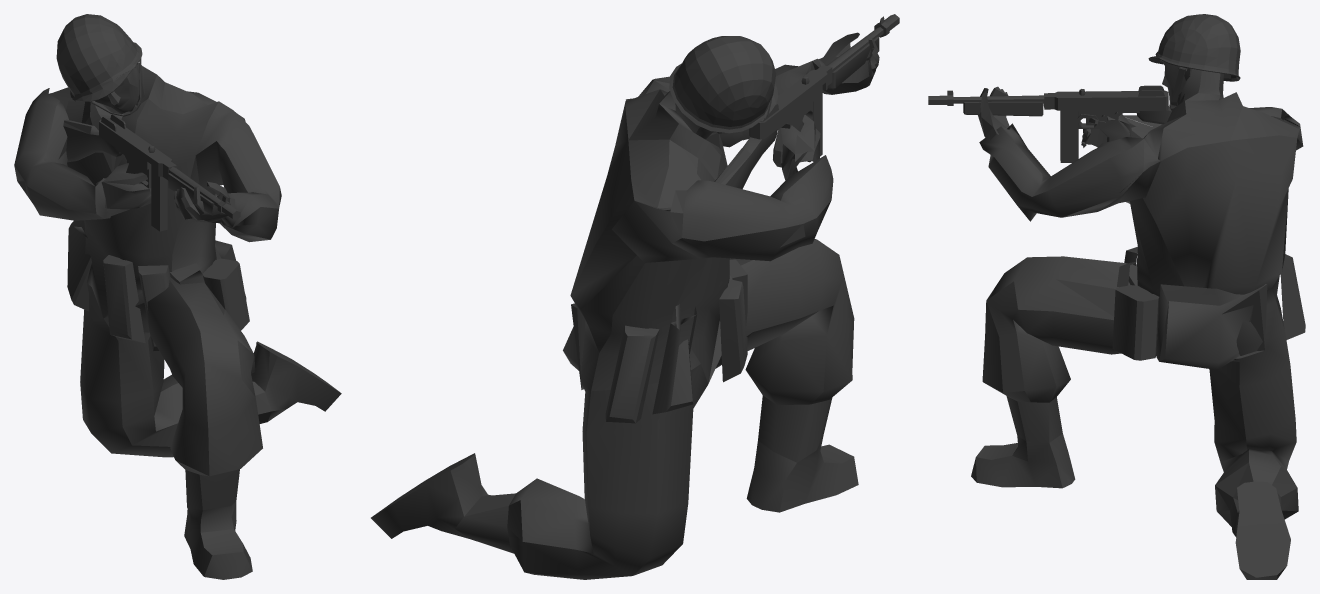
Rendered from us_mitra_acc.glb.
3 views of the same model, side by side, from view 1: azimuth 30°, elevation 25°; view 2: azimuth 150°, elevation 25°; view 3: azimuth 270°, elevation 25° (orthographic). The views are drawn at different scales.
Visible parts, largest first — view 1: Object.004_Object.017_2; view 2: Object.004_Object.017_2; view 3: Object.004_Object.017_2.
Boxes of the visible parts, bbox=[...] form: Object.004_Object.017_2: bbox=[14, 14, 341, 579]; Object.004_Object.017_2: bbox=[371, 14, 899, 579]; Object.004_Object.017_2: bbox=[928, 14, 1305, 579].
Bounding box in the file's own units: 0.2853 × 0.3802 × 0.2851.
1 material, 1 textured.
